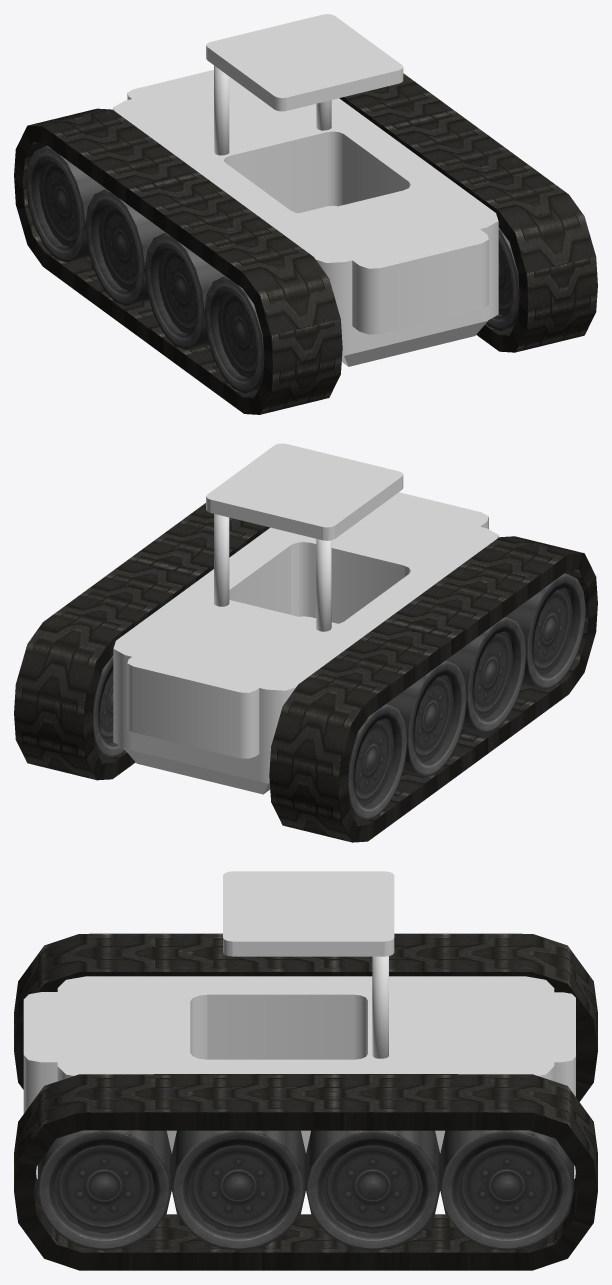
Rendered from fullBody.fbx.
The picture shows the model from 3 angles, top to bottom: view 1: azimuth 30°, elevation 25°; view 2: azimuth 150°, elevation 25°; view 3: azimuth 270°, elevation 25°; orthographic projection. The views are drawn at different scales.
Parts seen in each view (by area): view 1: parts; view 2: parts; view 3: parts.
Part boxes in pixels (<box>): parts: <box>14,14,597,414</box>; parts: <box>14,443,597,842</box>; parts: <box>14,871,597,1270</box>.
Bounding box in the file's own units: 255 × 183 × 352.
